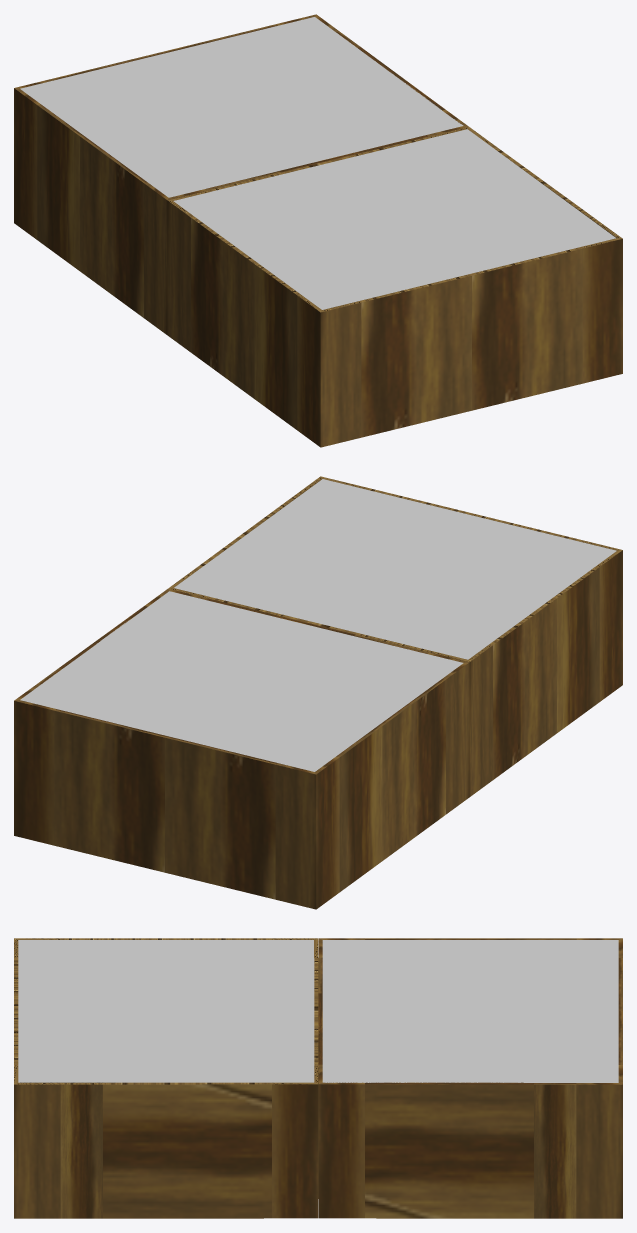
File: LevelDesignSetupRommTest (1).fbx
3 renders of one model, top to bottom at view 1: azimuth 30°, elevation 25°; view 2: azimuth 150°, elevation 25°; view 3: azimuth 270°, elevation 25°, orthographic.
Parts seen in each view (by area): view 1: floor_regular_4x2; view 2: floor_regular_4x2; view 3: floor_regular_4x2.
Part boxes in pixels (<box>): floor_regular_4x2: <box>14,14,622,447</box>; floor_regular_4x2: <box>14,476,622,909</box>; floor_regular_4x2: <box>14,938,622,1218</box>.
Bounding box in the file's own units: 8.2 × 3.5 × 14.41.
